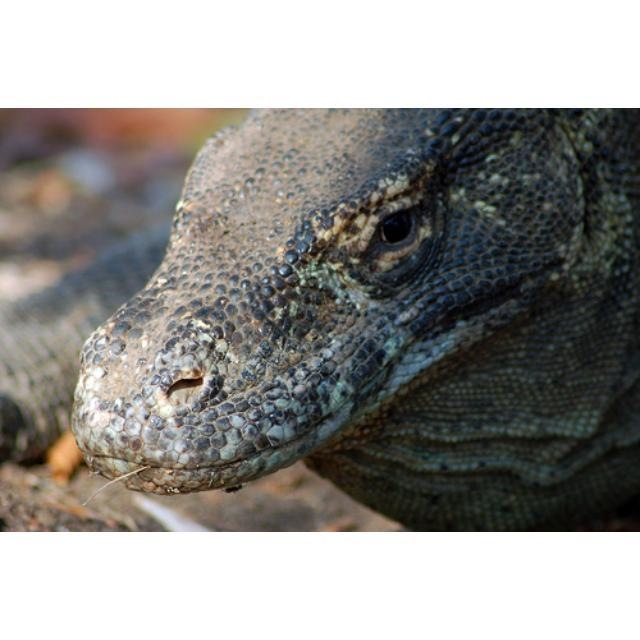KomodoDragon: (65, 108, 638, 530)
